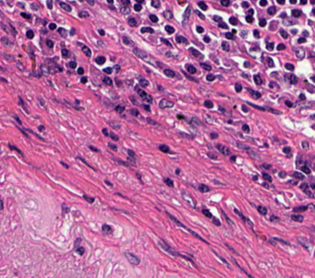nucleus: (234, 209, 252, 227), (135, 88, 152, 102), (77, 156, 94, 169), (221, 210, 233, 225), (182, 193, 194, 206), (133, 48, 147, 59), (216, 144, 230, 155), (272, 237, 289, 245), (189, 48, 202, 58), (247, 88, 260, 98), (159, 99, 173, 108), (59, 1, 71, 11), (249, 103, 266, 110), (184, 72, 197, 81), (294, 48, 304, 58), (175, 35, 187, 43), (183, 6, 190, 19), (186, 64, 196, 73), (102, 224, 112, 233), (82, 45, 90, 56), (198, 184, 209, 192), (237, 142, 249, 149), (293, 206, 307, 212), (291, 214, 303, 221), (195, 10, 204, 19), (253, 75, 262, 84), (120, 6, 130, 14), (122, 36, 132, 44), (161, 38, 171, 46), (95, 56, 105, 64), (164, 69, 174, 77), (289, 74, 297, 84), (159, 144, 169, 152), (83, 194, 93, 202), (202, 209, 212, 217), (200, 63, 211, 70), (292, 172, 303, 179), (151, 0, 160, 8), (198, 1, 206, 10), (128, 18, 137, 26), (165, 25, 174, 33), (57, 28, 66, 36), (61, 48, 69, 57), (139, 78, 148, 86), (301, 165, 310, 173), (262, 173, 271, 181), (164, 178, 173, 186), (304, 189, 313, 197), (257, 206, 266, 214), (267, 6, 275, 14), (163, 10, 171, 18), (212, 217, 220, 225), (291, 9, 300, 16), (280, 29, 287, 38), (222, 41, 229, 50), (115, 105, 124, 112), (109, 133, 118, 140), (207, 152, 216, 159), (141, 27, 153, 32), (147, 118, 157, 124), (89, 145, 99, 151), (74, 238, 80, 248), (149, 14, 157, 21), (245, 15, 253, 22), (229, 17, 237, 24), (225, 32, 233, 39), (46, 39, 53, 47), (266, 42, 273, 50), (277, 43, 285, 50), (68, 61, 76, 68), (285, 63, 293, 70), (103, 77, 111, 84), (204, 100, 212, 107), (241, 104, 248, 112), (242, 124, 249, 132), (108, 143, 116, 150), (127, 150, 134, 158), (79, 11, 88, 17), (218, 22, 227, 28), (267, 57, 273, 66), (103, 67, 112, 73), (206, 74, 215, 80), (235, 83, 241, 92), (110, 122, 119, 128), (136, 174, 142, 183), (270, 215, 279, 221), (220, 0, 230, 5), (134, 4, 141, 11), (130, 97, 137, 104), (301, 141, 308, 148), (283, 146, 290, 153), (61, 161, 68, 168), (300, 183, 307, 190), (259, 0, 267, 6), (213, 16, 221, 22), (259, 18, 265, 26), (270, 21, 276, 29), (297, 37, 305, 43), (130, 109, 138, 115), (62, 204, 68, 212), (284, 20, 295, 24), (241, 1, 248, 7), (196, 26, 203, 32), (253, 30, 259, 37), (77, 67, 83, 74), (285, 100, 292, 106), (102, 128, 108, 135), (210, 132, 217, 138), (121, 0, 129, 5), (31, 3, 37, 9), (49, 23, 55, 29), (98, 29, 104, 35), (203, 36, 209, 42), (244, 61, 250, 67), (219, 106, 225, 112), (279, 171, 285, 177), (47, 1, 52, 8), (269, 82, 276, 87), (104, 180, 111, 185), (262, 164, 270, 168), (248, 9, 253, 15), (81, 77, 86, 83), (143, 105, 149, 110), (38, 125, 44, 130), (310, 183, 314, 190), (299, 94, 304, 99), (230, 156, 235, 161), (70, 29, 74, 35), (242, 30, 246, 36), (242, 73, 248, 77), (39, 98, 43, 104), (277, 0, 284, 3), (87, 1, 94, 4), (177, 115, 184, 118), (291, 29, 296, 33), (300, 1, 306, 4), (232, 29, 236, 33), (303, 31, 307, 35), (175, 169, 179, 173), (107, 0, 112, 3), (290, 0, 295, 3), (126, 81, 131, 84)
